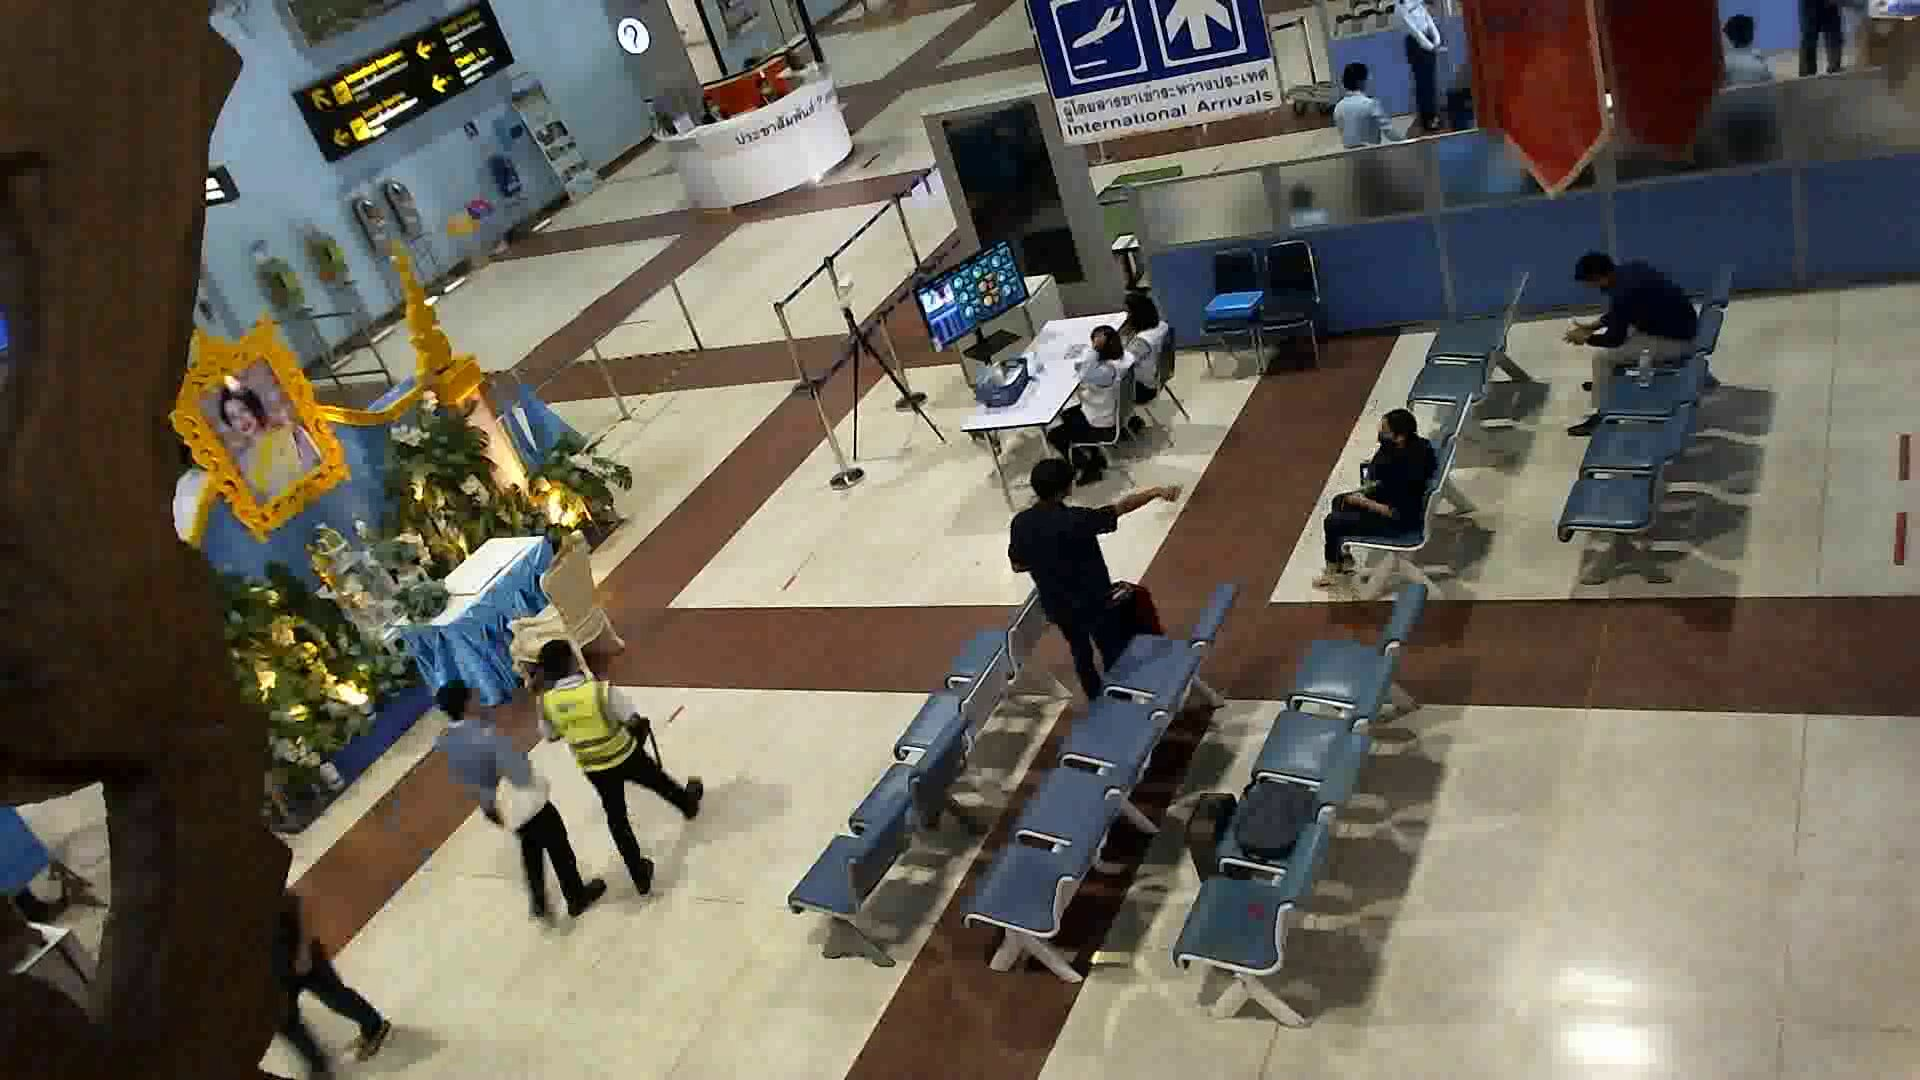backpack: (1241, 753, 1322, 866)
luggage: (1179, 782, 1247, 897), (1103, 561, 1168, 678)
people: (524, 632, 710, 893), (433, 668, 601, 945), (999, 453, 1137, 718), (1312, 395, 1441, 591), (1570, 247, 1691, 440), (1043, 338, 1137, 488), (1118, 288, 1187, 418)
